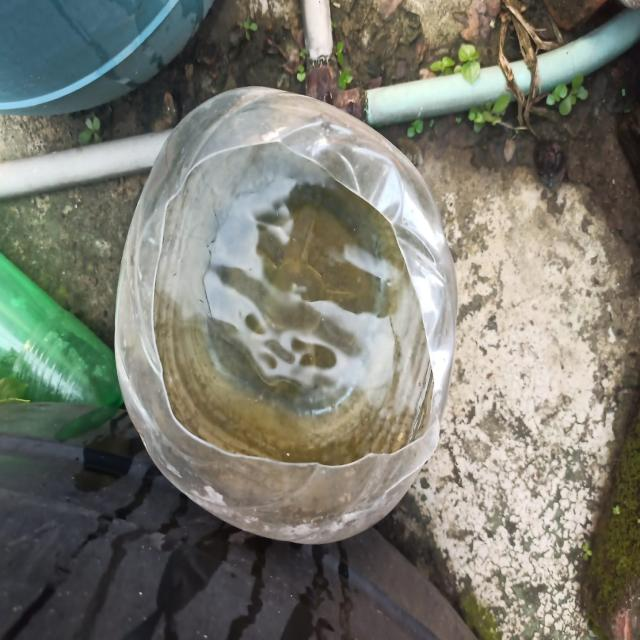Breeding Place: (97, 67, 481, 582)
